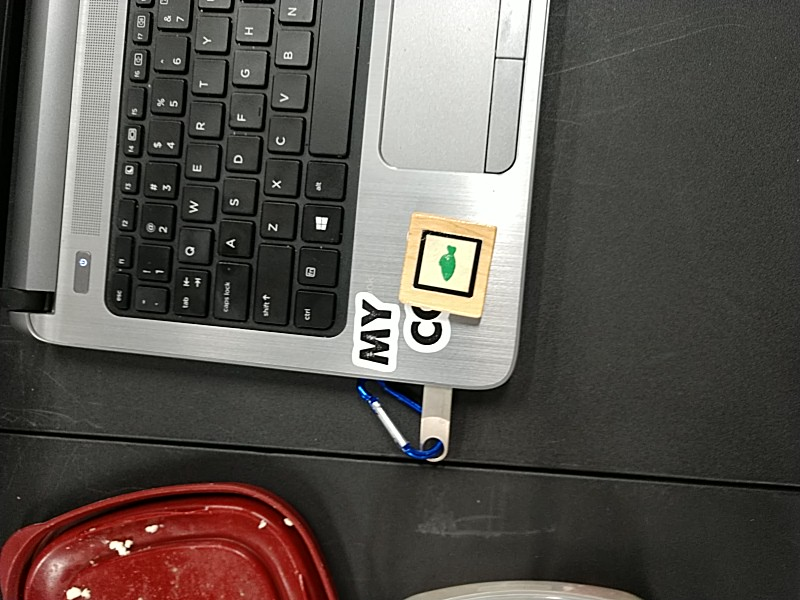Fish Tile: (413, 230, 482, 298)
